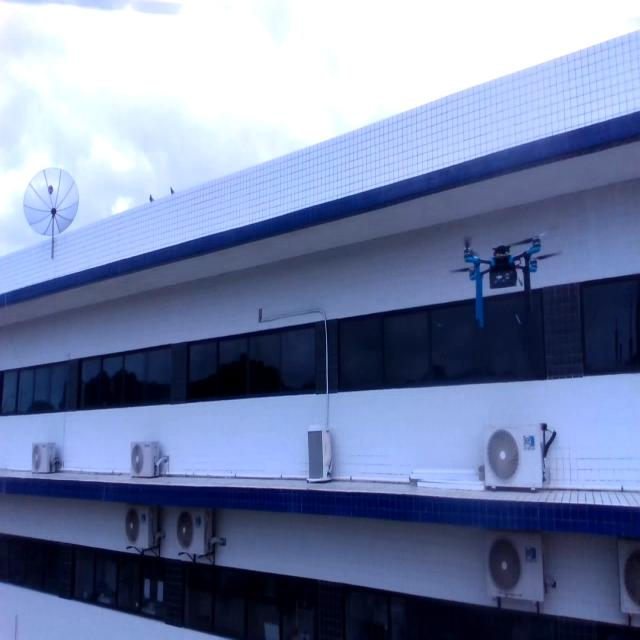-uav-: (441, 213, 555, 329)
